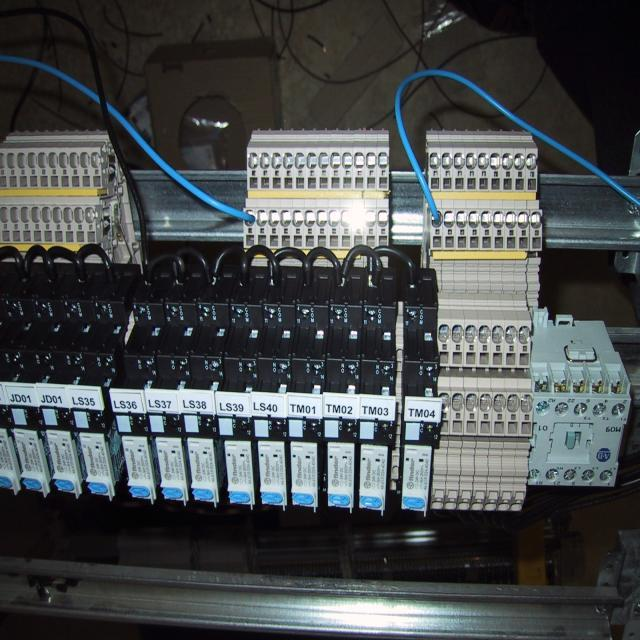Klemmenleiste: (431, 264, 536, 514), (245, 132, 390, 258), (426, 132, 543, 260), (1, 131, 117, 252)
Leistungsschutz: (529, 305, 631, 485)
Relais: (5, 385, 52, 493), (177, 393, 221, 503), (145, 391, 189, 500), (37, 385, 82, 491), (111, 395, 157, 498), (403, 398, 441, 517), (359, 395, 395, 515), (218, 393, 255, 507), (251, 393, 288, 506), (74, 391, 114, 495), (324, 395, 359, 512), (288, 394, 323, 508), (1, 381, 21, 492)
